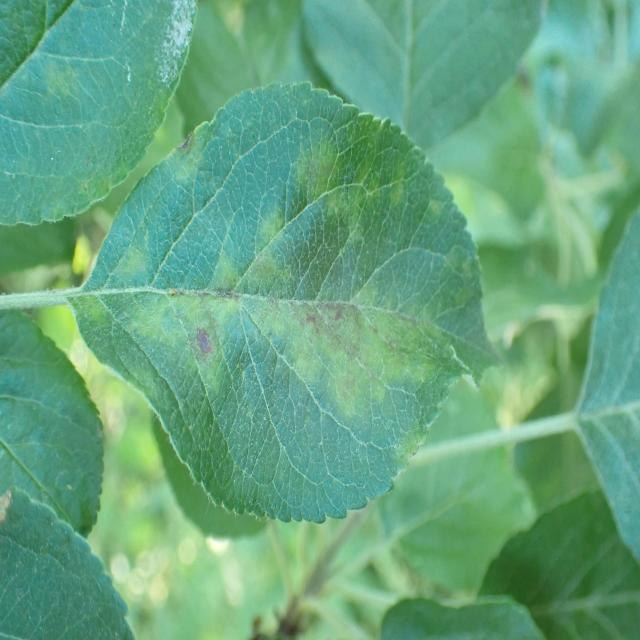scab: (87, 125, 487, 480)
